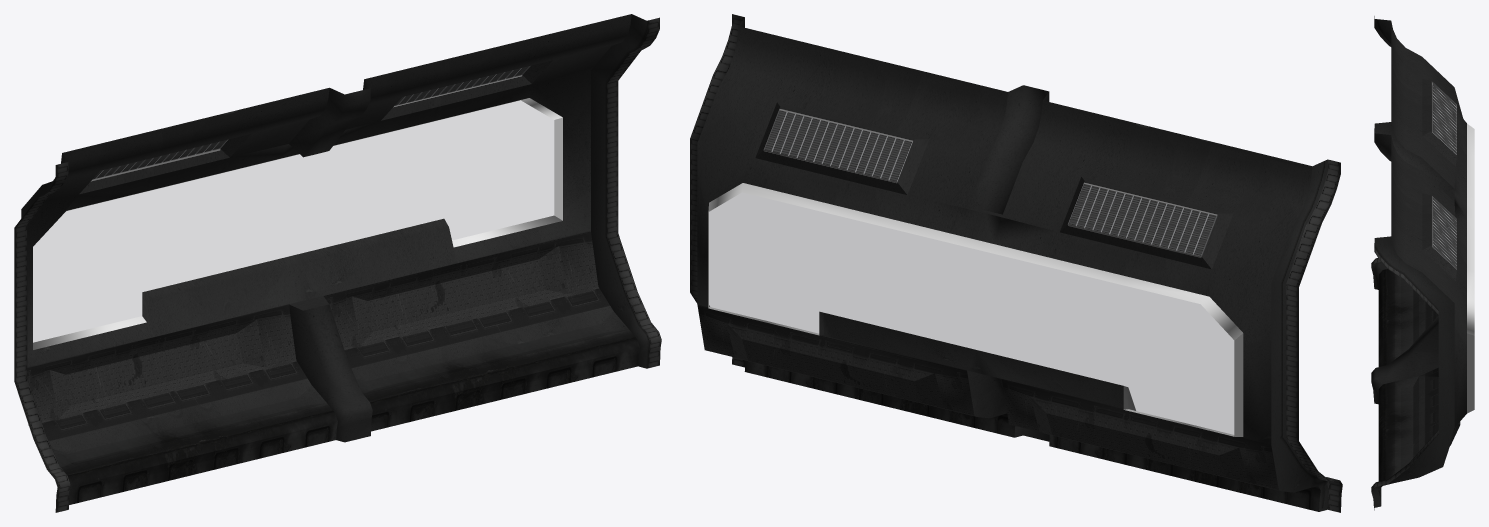
File: WallWithWindow.fbx
The picture shows the model from 3 angles, left to right: view 1: azimuth 30°, elevation 25°; view 2: azimuth 150°, elevation 25°; view 3: azimuth 270°, elevation 25°; orthographic projection. The views are drawn at different scales.
Parts seen in each view (by area): view 1: WallWithWindow; view 2: WallWithWindow; view 3: WallWithWindow.
Part boxes in pixels (bbox=[...]): WallWithWindow: bbox=[14, 14, 661, 512]; WallWithWindow: bbox=[690, 14, 1342, 512]; WallWithWindow: bbox=[1371, 16, 1474, 510].
Bounding box in the file's own units: 8 × 4.4 × 1.52.
